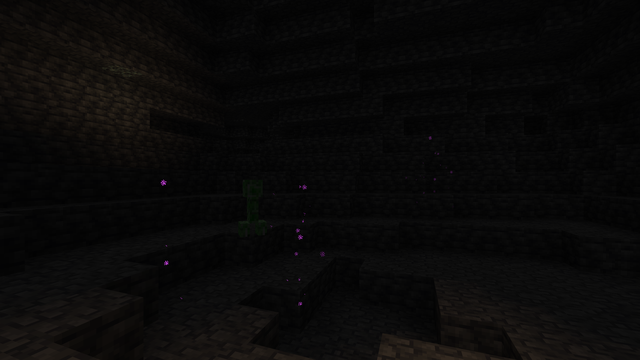creepers: (237, 177, 266, 237)
